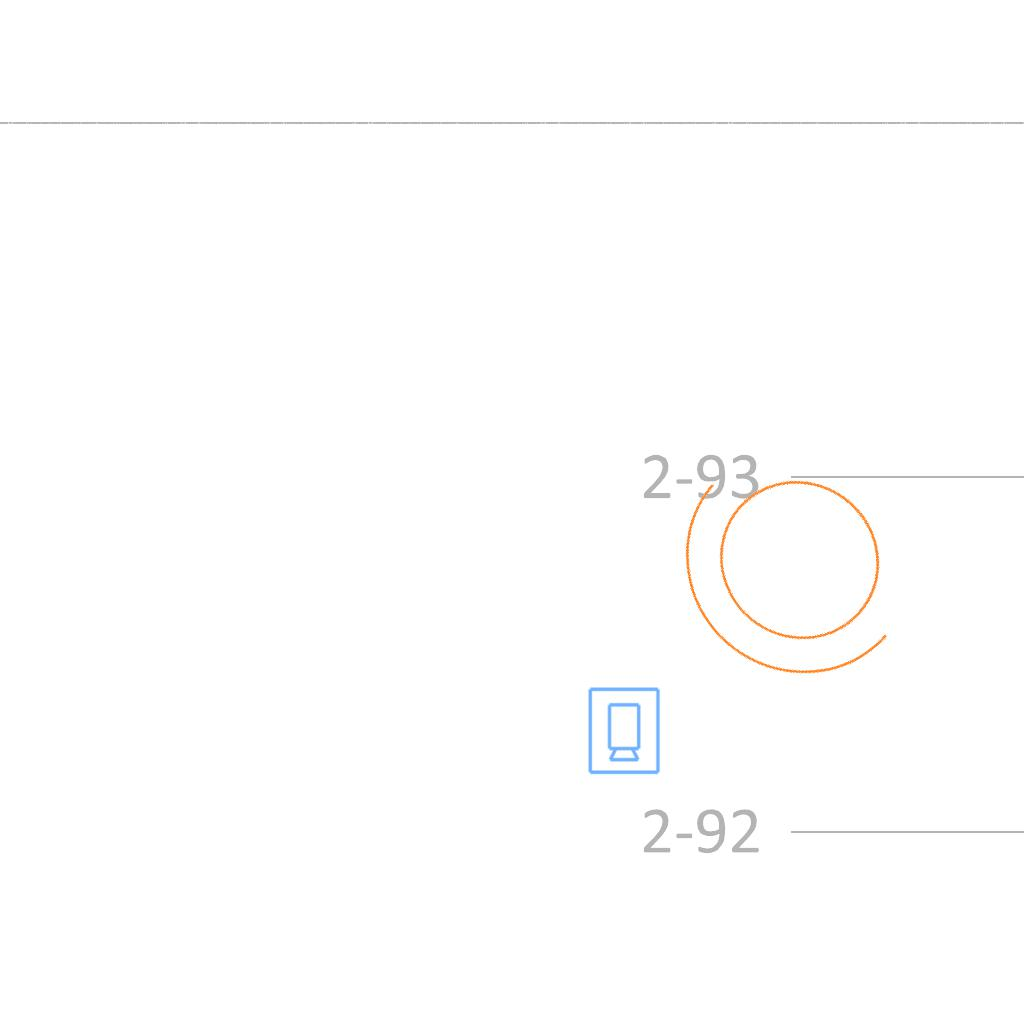KFO_Kamera_mit_Festobjektiv: (585, 685, 662, 776)
Scheinwerfer_fuer_Alarmbeleuchtung: (624, 399, 972, 744)
